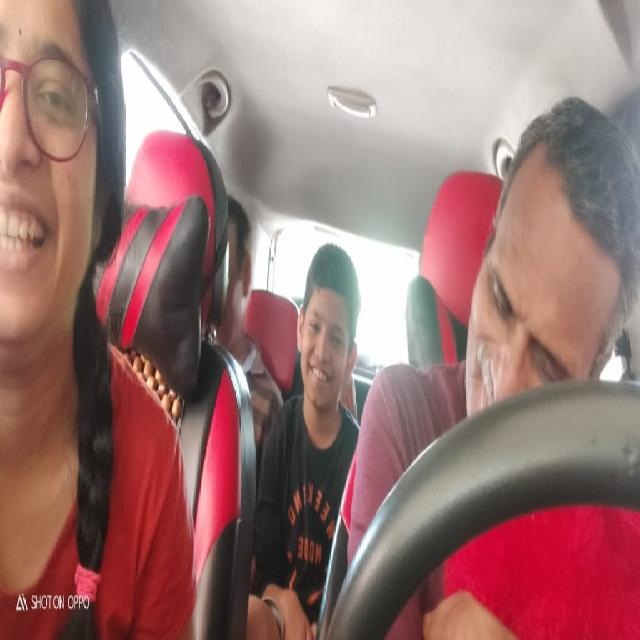drowsy: (460, 80, 634, 410)
person: (0, 0, 108, 354), (296, 249, 357, 417), (224, 197, 256, 355)
